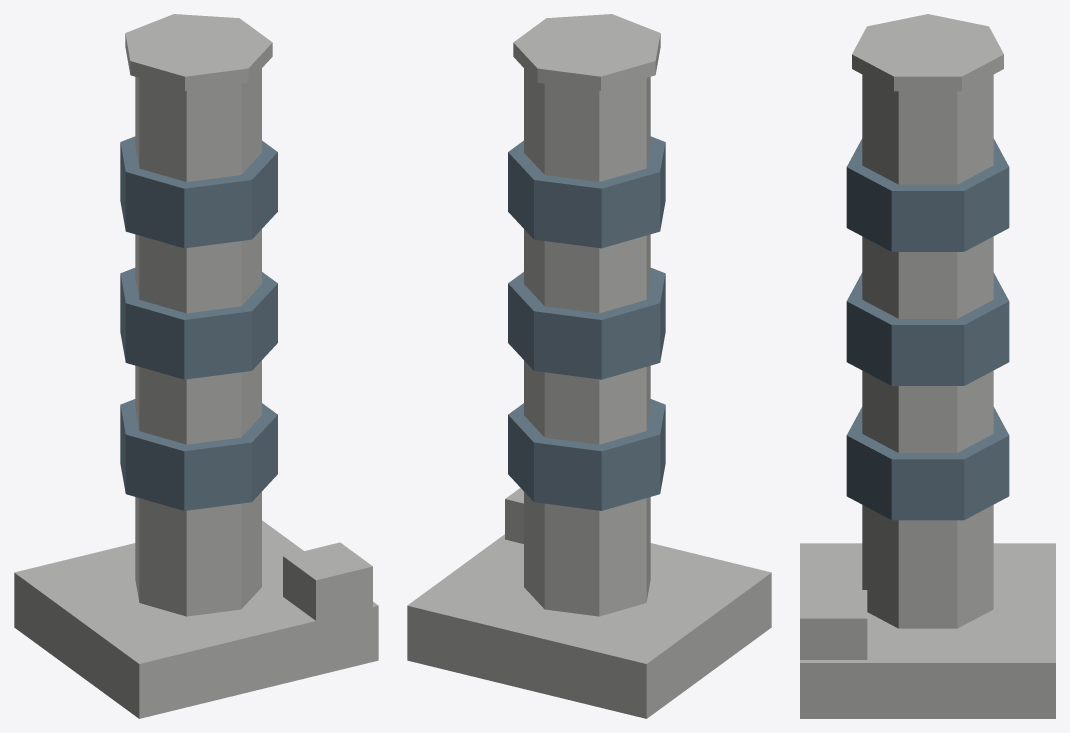
Rendered from house-atomic-1.glb.
3 views of the same model, side by side, from view 1: azimuth 30°, elevation 25°; view 2: azimuth 150°, elevation 25°; view 3: azimuth 270°, elevation 25° (orthographic). The views are drawn at different scales.
Parts seen in each view (by area): view 1: LOD0; view 2: LOD0; view 3: LOD0.
Boxes of the visible parts, x1,y1,x2,y2 form: LOD0: [14, 14, 378, 718]; LOD0: [407, 14, 771, 718]; LOD0: [800, 14, 1055, 718].
Size of what is drawn, in the model's own units: 0.21 by 0.502 by 0.19.
